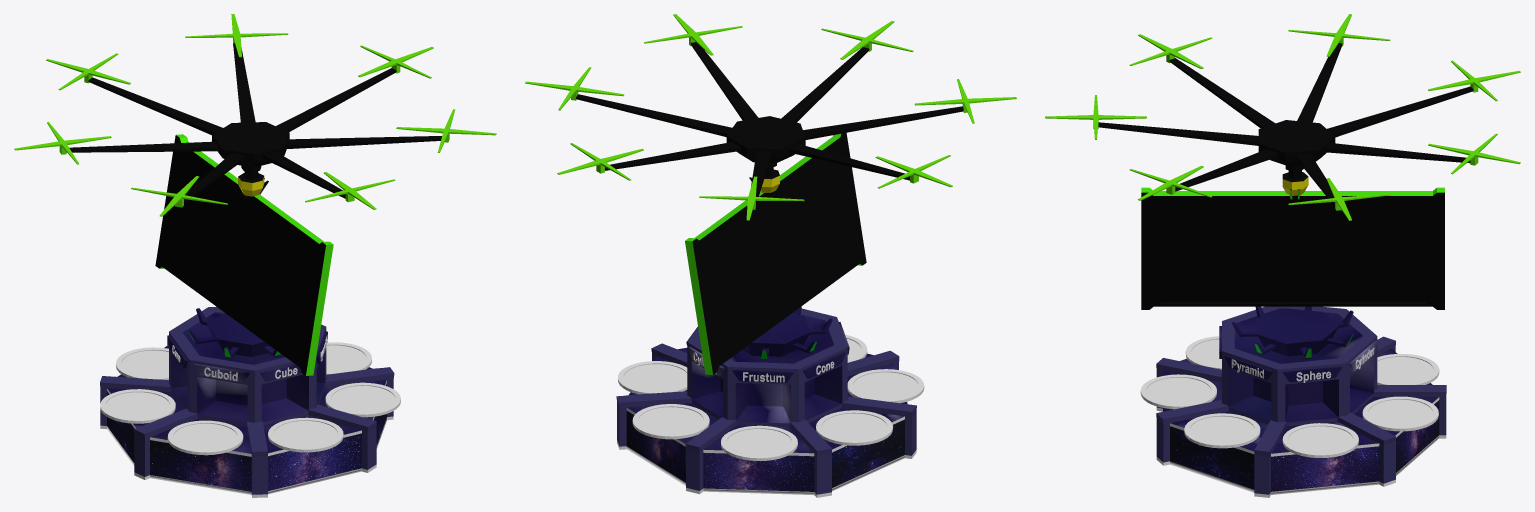
File: Round table 1.fbx
3 views of the same model, side by side, from view 1: azimuth 30°, elevation 25°; view 2: azimuth 150°, elevation 25°; view 3: azimuth 270°, elevation 25° (orthographic). The views are drawn at different scales.
Parts seen in each view (by area): view 1: Cylinder.010, Cube.001, Cylinder.011, Cylinder.027, Cylinder.025, Cylinder.026, Cylinder.024, Cylinder.021, Cylinder.023, Cylinder.016, Cylinder.013, Cylinder.019 (+4 smaller); view 2: Cylinder.010, Cube.001, Cylinder.011, Cylinder.022, Cylinder.021, Cylinder.026, Cylinder.027, Cylinder.023, Cylinder.018, Cylinder.014, Cylinder.016, Cylinder.013 (+3 smaller); view 3: Cube.001, Cylinder.010, Cylinder.011, Cylinder.024, Cylinder.023, Cylinder.022, Cylinder.025, Cylinder.021, Cylinder.027, Cylinder.015, Cylinder.017, Cylinder.014 (+4 smaller).
Part boxes in pixels (x1,y1,x2,y2): Cylinder.010: (100, 306, 394, 497); Cube.001: (155, 134, 333, 375); Cylinder.011: (66, 43, 441, 203); Cylinder.027: (167, 420, 243, 455); Cylinder.025: (268, 417, 343, 452); Cylinder.026: (100, 389, 175, 423); Cylinder.024: (325, 382, 400, 417); Cylinder.021: (116, 347, 168, 379); Cylinder.023: (326, 342, 371, 374); Cylinder.016: (305, 172, 395, 209); Cylinder.013: (358, 45, 433, 78); Cylinder.019: (46, 53, 130, 90); Cylinder.010: (616, 306, 916, 497); Cube.001: (685, 132, 866, 374); Cylinder.011: (576, 42, 963, 204); Cylinder.022: (632, 404, 709, 439); Cylinder.021: (721, 425, 797, 460); Cylinder.026: (816, 410, 892, 445); Cylinder.027: (847, 369, 924, 403); Cylinder.023: (618, 361, 687, 394); Cylinder.018: (875, 155, 952, 188); Cylinder.014: (557, 143, 643, 180); Cylinder.016: (821, 21, 913, 59); Cylinder.013: (525, 67, 624, 110); Cube.001: (1141, 187, 1444, 309); Cylinder.010: (1156, 306, 1446, 497); Cylinder.011: (1098, 43, 1473, 206); Cylinder.024: (1184, 413, 1260, 448); Cylinder.023: (1282, 423, 1358, 457); Cylinder.022: (1362, 396, 1438, 431); Cylinder.025: (1140, 374, 1216, 409); Cylinder.021: (1377, 354, 1439, 384); Cylinder.027: (1185, 336, 1221, 369); Cylinder.015: (1129, 165, 1212, 200); Cylinder.017: (1129, 34, 1212, 68); Cylinder.014: (1428, 133, 1520, 174).
Size of the model in its own units: 158 by 114 by 154.
10 materials, 2 textured.
